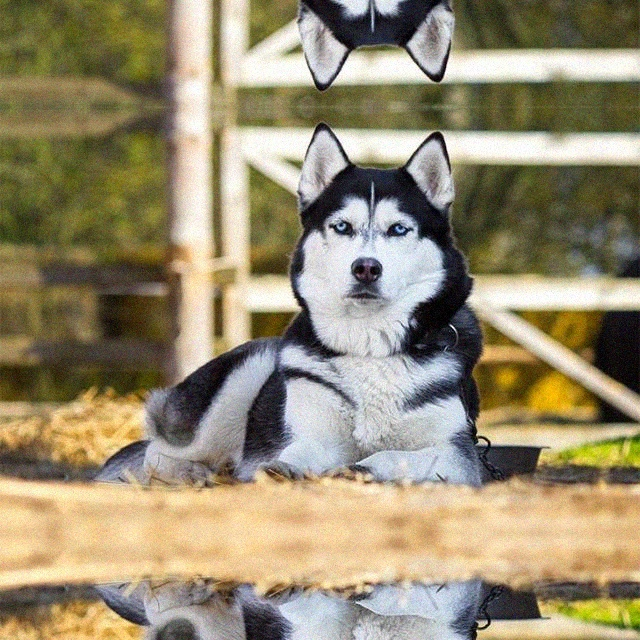dog: (175, 147, 529, 507), (175, 558, 529, 640), (175, 0, 529, 65)
